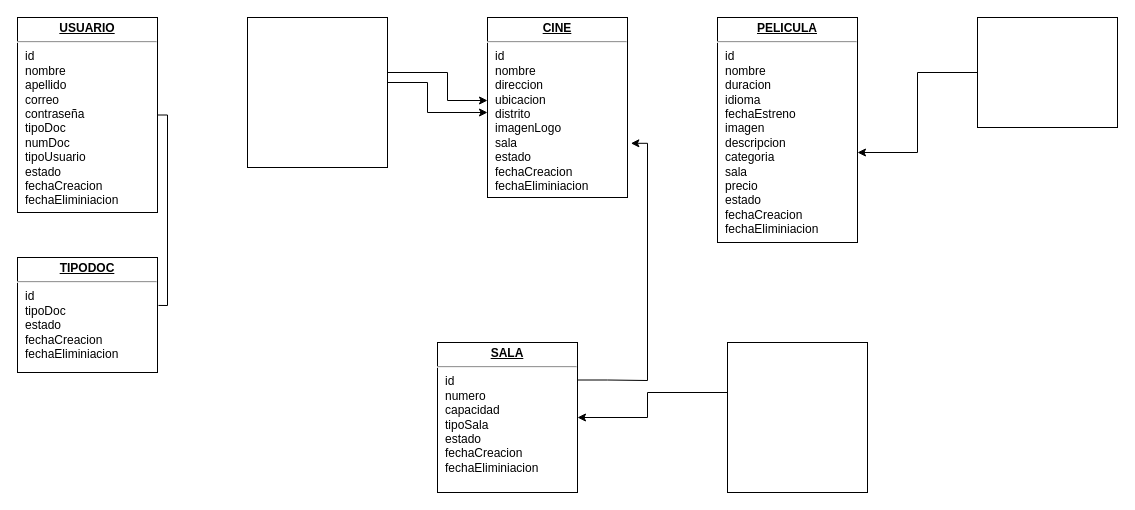
This 1135x510 diagram has some shape labels left out. Each missing label, with the centre of its shape:
"CATPELICULA id categoria estado fechaCreacion fechaEliminiacion" belongs at pixel 1047 72.
"CINEUBICACION id ubicacion distrito estado fechaCreacion fechaEliminiacion" belongs at pixel 317 92.
"TIPOSALA id tipoSala precio estado fechaCreacion fechaEliminiacion" belongs at pixel 797 417.
